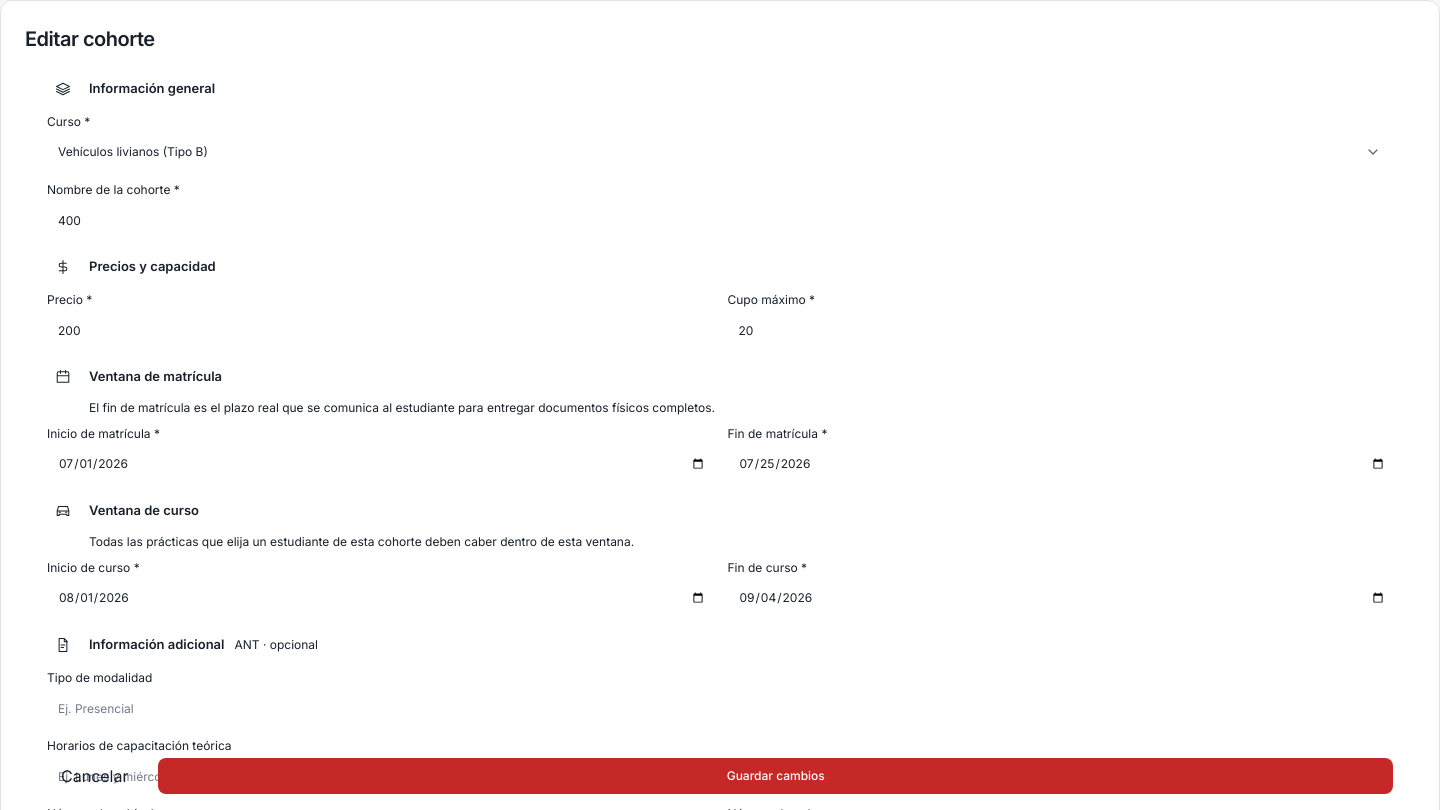
EditCohortPage › conflicto de versión (409) y recarga › si falta la versión (400 updatedAt) muestra el aviso general y ofrece recargar
Expected: the field labelled "Nombre de la cohorte" is shown, [47, 203, 1393, 237]
In the field labelled "Tipo de modalidad": x=720, y=708 [47, 691, 1393, 725], type "Presencial"
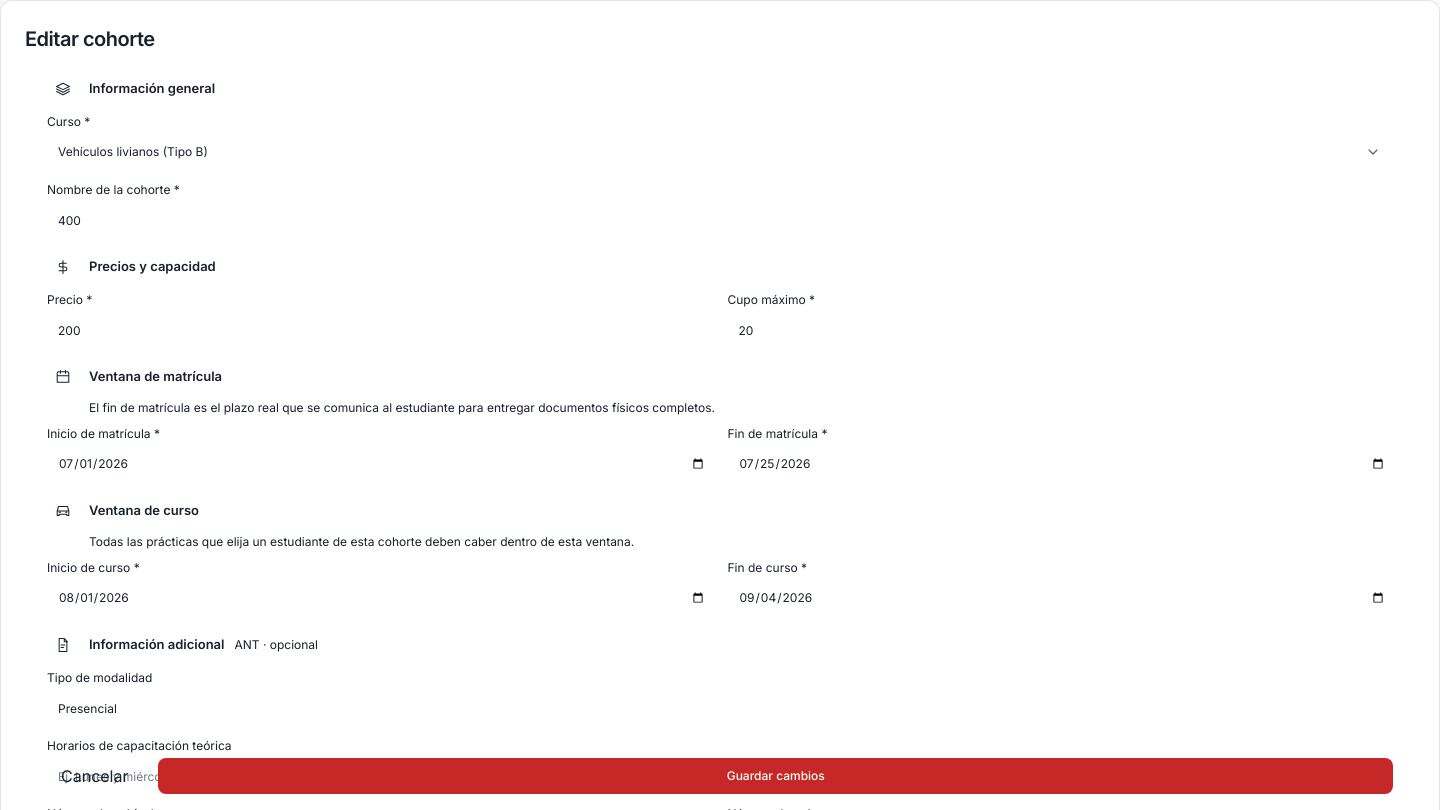
Click the button "Guardar cambios": x=776, y=776 [158, 758, 1393, 794]
(page scrolled)
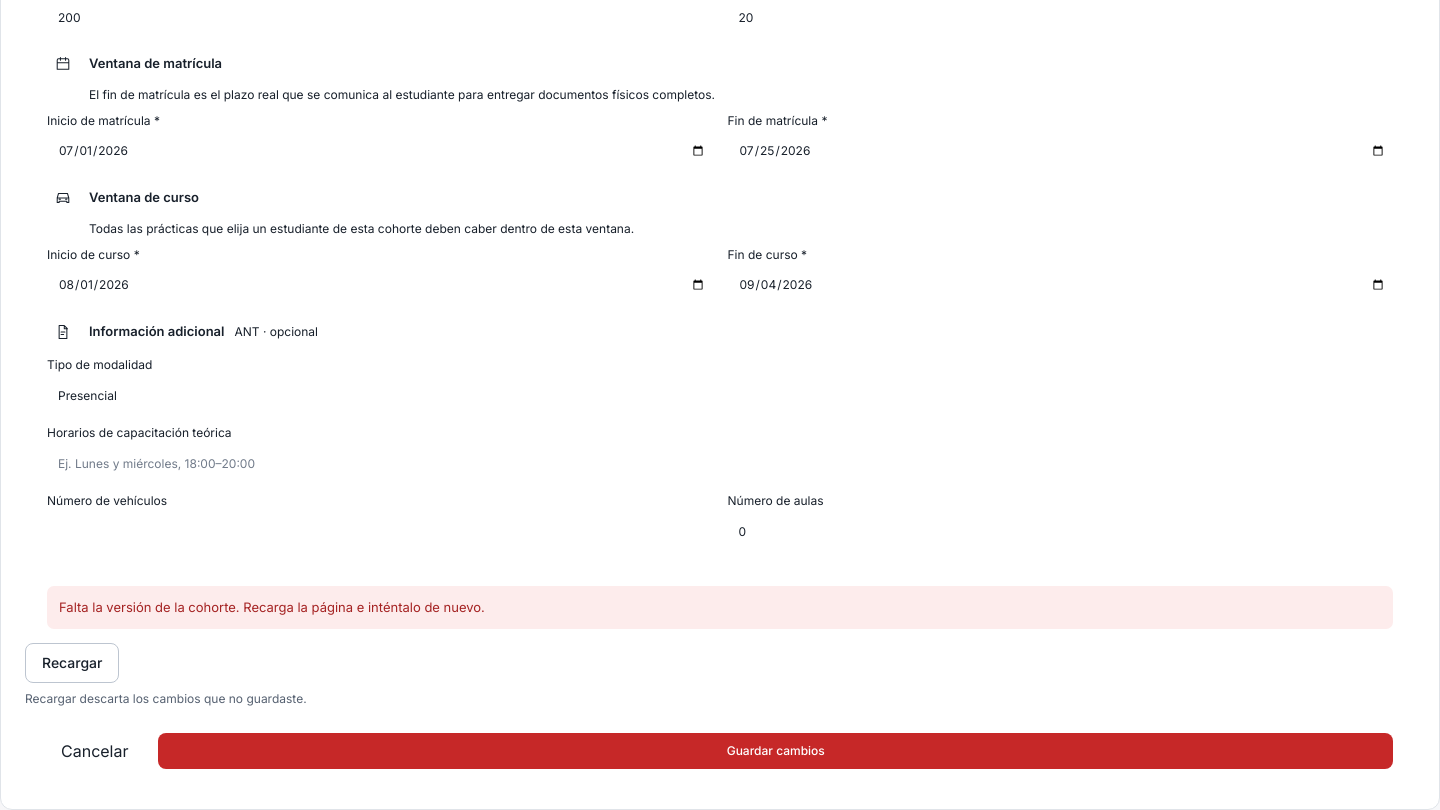
Expected: the message reads "Falta la versión de la cohorte. Recarga la página e inténtalo de nuevo.", [59, 599, 485, 615]
Expected: the button "Recargar" is shown, [25, 643, 120, 683]
